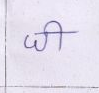i_matra: (49, 20, 68, 51)
